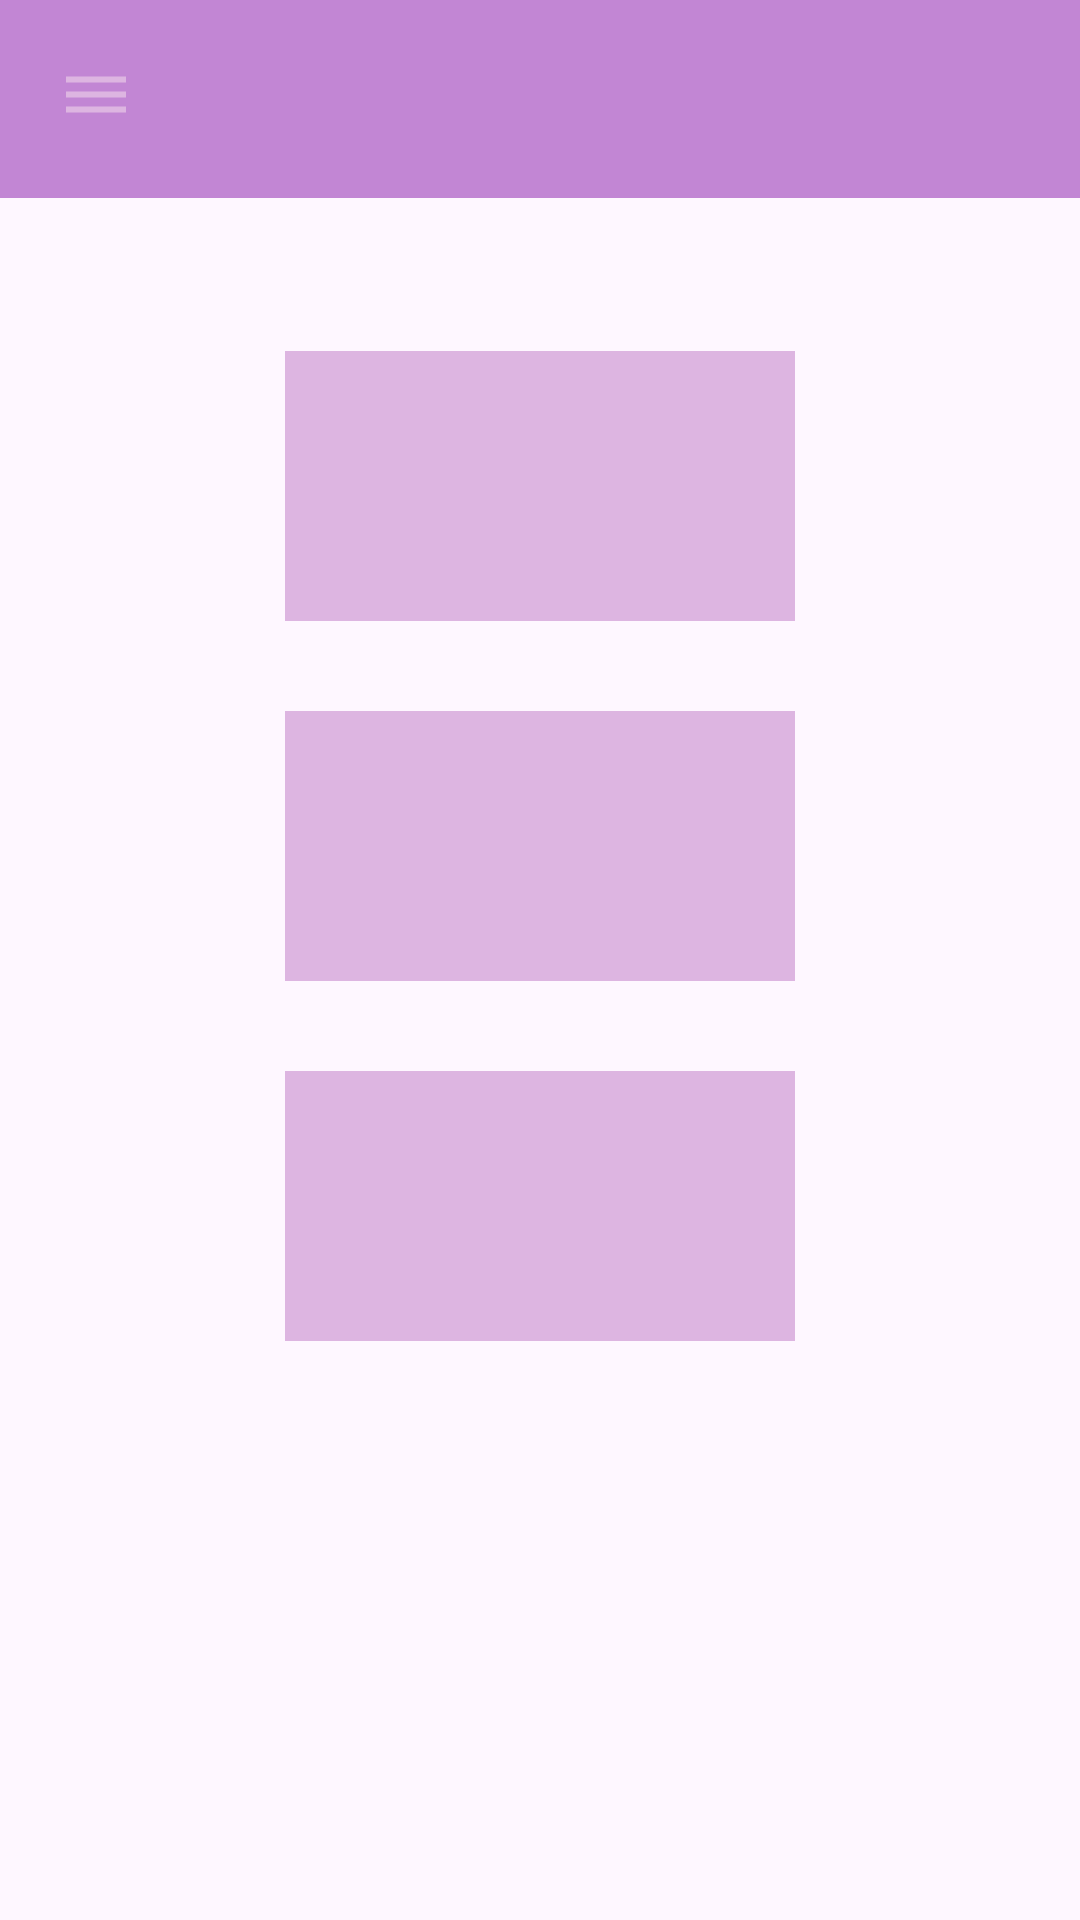

Icon bounding boxes for this 1080px x 1920px phone screenshot, format (x1, y1, x2, y2):
Menu: (66, 77, 126, 112)
